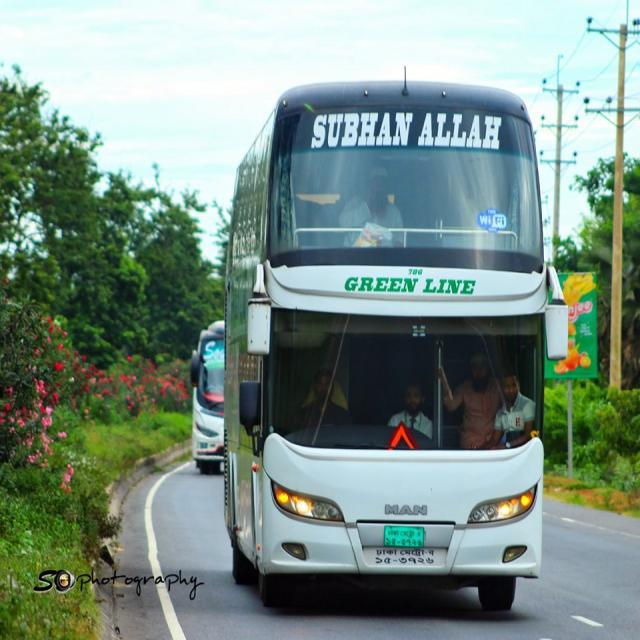bus: (225, 79, 571, 616)
